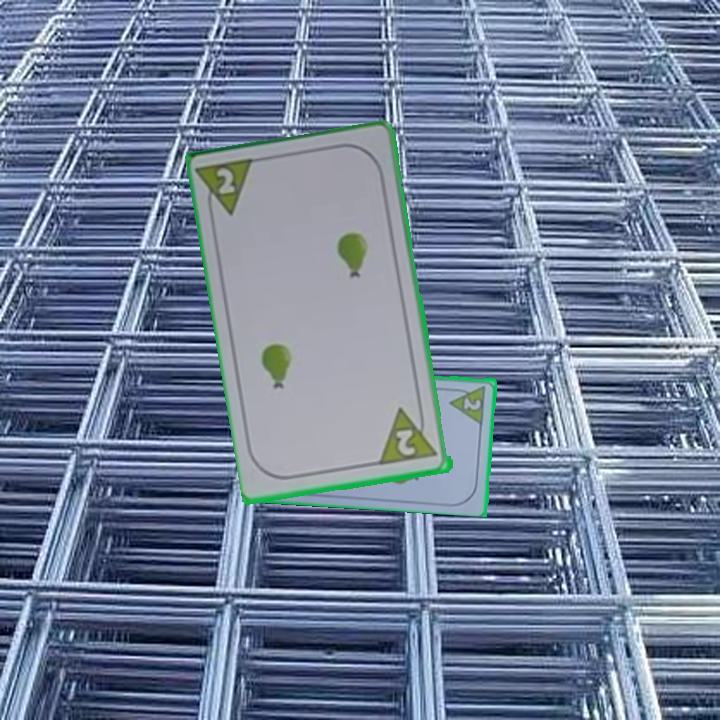2p: (213, 164, 239, 198), (393, 426, 419, 459), (460, 394, 484, 413)
